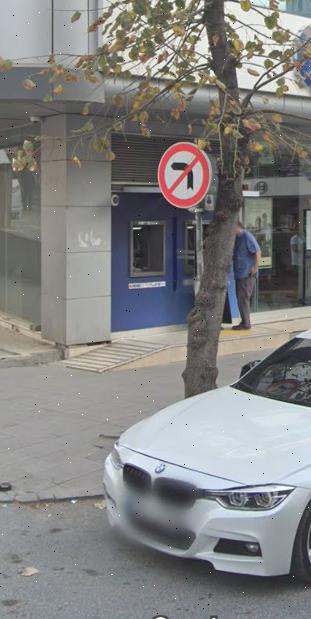leftturnsareforbidden: (161, 143, 207, 201)
